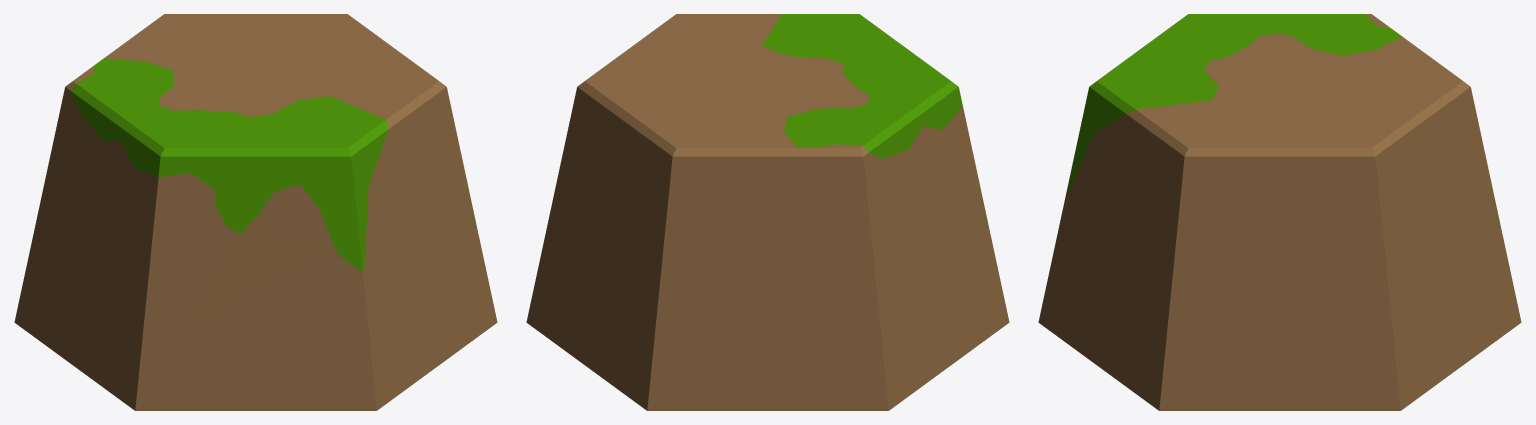
Rendered from RPG_Tiles_Hex_Mound_Moss_Large_02.FBX.
3 renders of one model, left to right at view 1: azimuth 30°, elevation 25°; view 2: azimuth 150°, elevation 25°; view 3: azimuth 270°, elevation 25°, orthographic.
Visible parts, largest first — view 1: RPG_Tiles_Hex_Mound_Moss_Large_02; view 2: RPG_Tiles_Hex_Mound_Moss_Large_02; view 3: RPG_Tiles_Hex_Mound_Moss_Large_02.
Part boxes in pixels (x1,y1,x2,y2): RPG_Tiles_Hex_Mound_Moss_Large_02: [14, 14, 497, 410]; RPG_Tiles_Hex_Mound_Moss_Large_02: [526, 14, 1009, 410]; RPG_Tiles_Hex_Mound_Moss_Large_02: [1038, 14, 1521, 410].
Size of the model in its own units: 2346 by 1495 by 2709.
